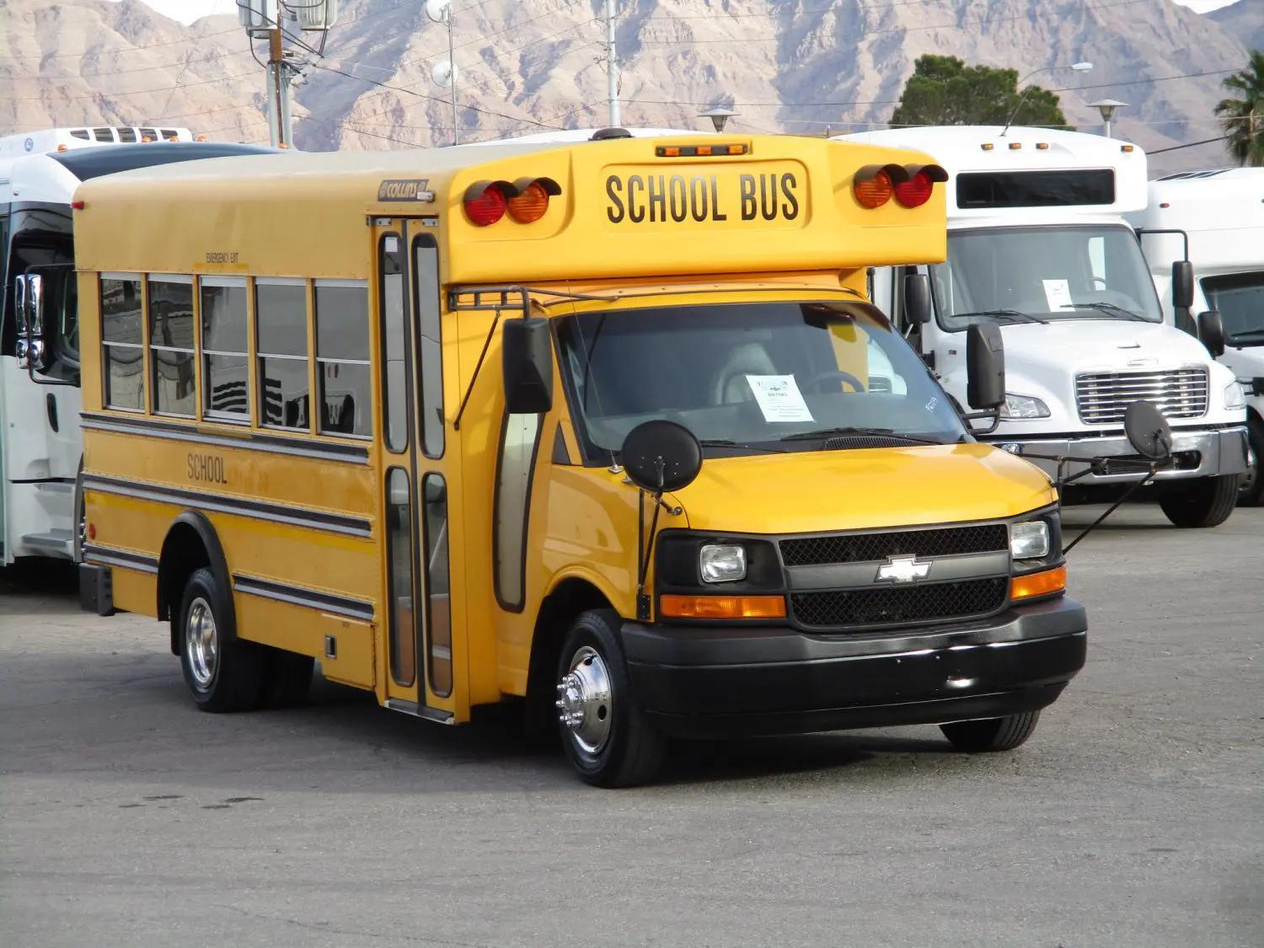Bus: (72, 133, 1090, 790)
